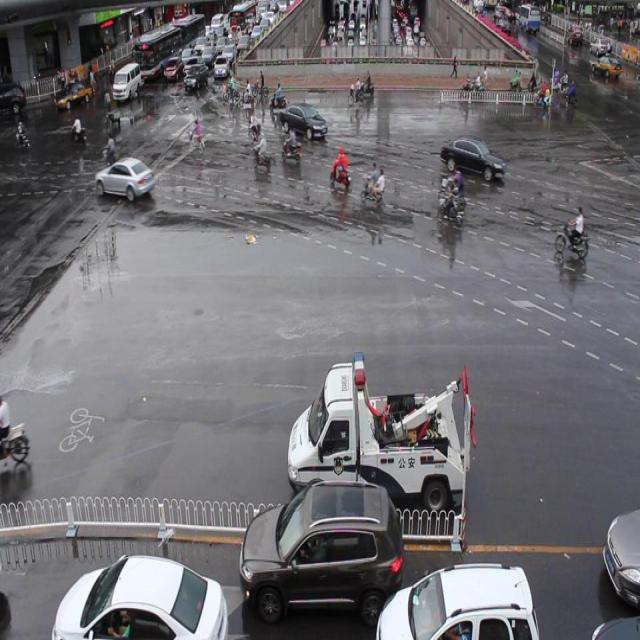bus: (287, 352, 473, 518)
car: (241, 481, 403, 622), (54, 553, 228, 640), (375, 558, 539, 640), (604, 510, 640, 605), (439, 135, 504, 184), (95, 157, 156, 200), (280, 102, 327, 140), (590, 611, 640, 640)
